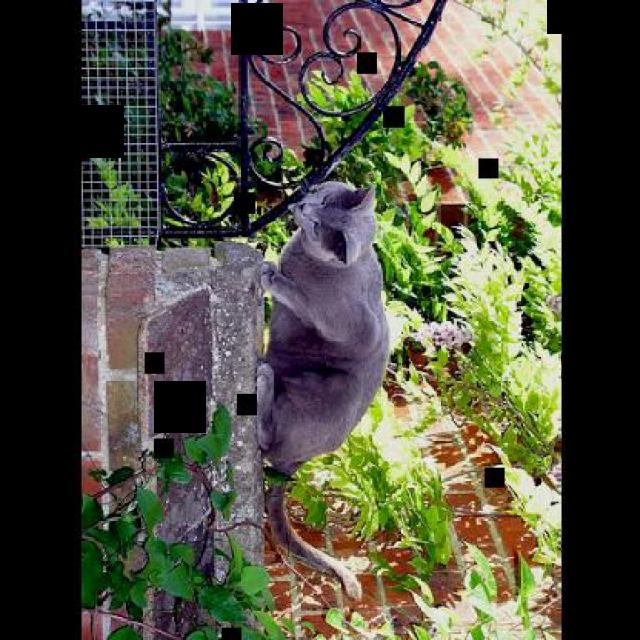unauthorized: (254, 178, 389, 600)
